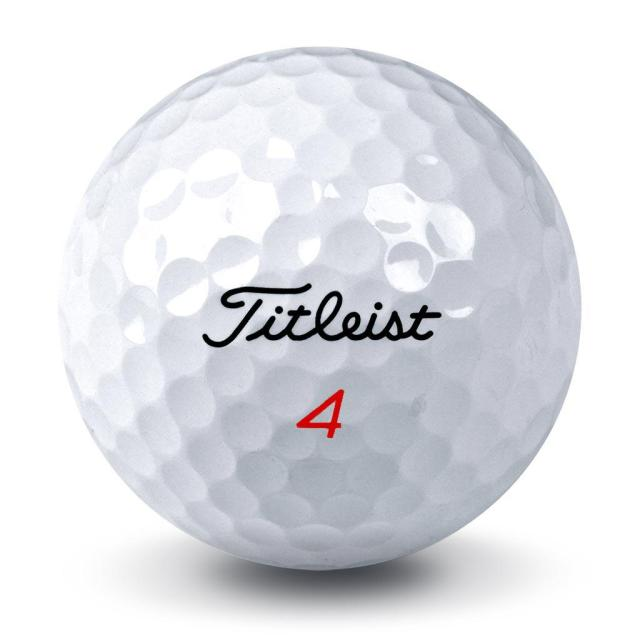ball: (49, 43, 587, 577)
